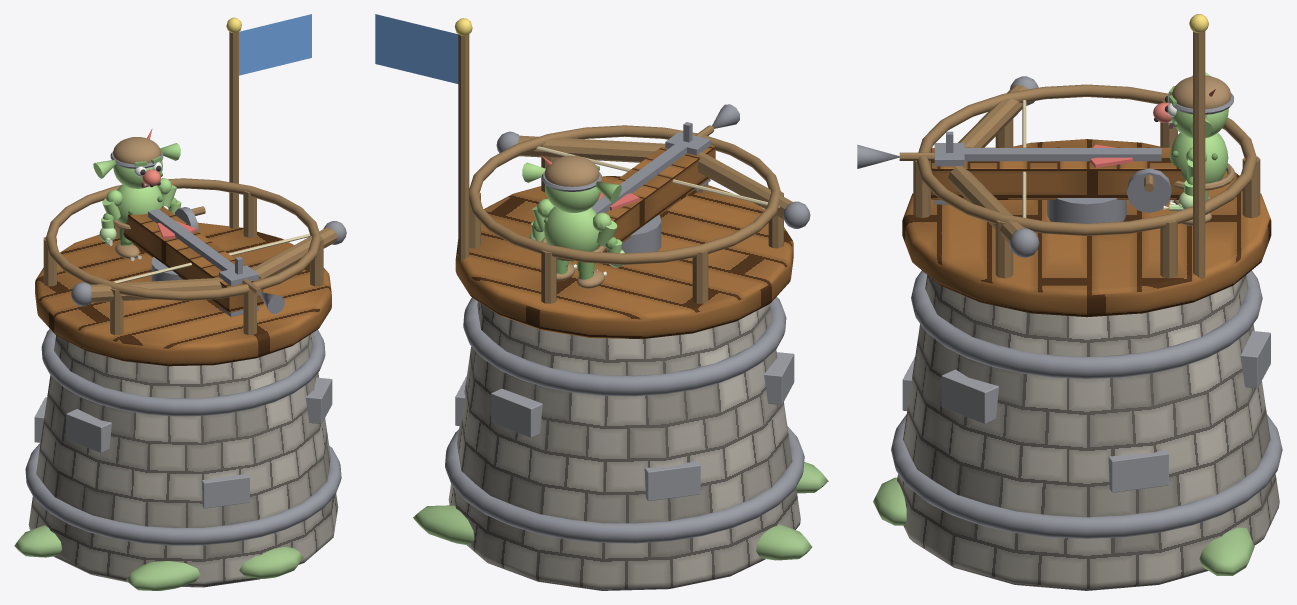
File: tower_crossbow.glb
3 views of the same model, side by side, from view 1: azimuth 30°, elevation 25°; view 2: azimuth 150°, elevation 25°; view 3: azimuth 270°, elevation 25° (orthographic). The views are drawn at different scales.
Parts seen in each view (by area): view 1: Base, Platform, BaseBandLow, BaseBandHigh, Rail, Stock, Flag, Pole, Moss.011, Brick.003, Limb, Moss.009 (+15 smaller); view 2: Base, Platform, BaseBandLow, BaseBandHigh, Rail, Flag, Stock, Pole, Limb.001, Operator_Body, Brick.001, Brick.002 (+13 smaller); view 3: Base, Platform, BaseBandLow, BaseBandHigh, Rail, Stock, Pole, StockRail, Brick.005, Brick, Pivot, Moss.008 (+15 smaller).
Boxes of the visible parts, box(x1,y1,x2,y2) form: Base: box(28, 333, 338, 587); Platform: box(35, 222, 331, 366); BaseBandLow: box(25, 443, 341, 545); BaseBandHigh: box(41, 329, 325, 416); Rail: box(45, 178, 321, 300); Stock: box(123, 206, 263, 313); Flag: box(239, 14, 311, 75); Pole: box(229, 32, 238, 228); Moss.011: box(126, 561, 200, 590); Brick.003: box(66, 409, 111, 452); Limb: box(90, 277, 223, 302); Moss.009: box(239, 547, 303, 578); Base: box(448, 301, 800, 590); Platform: box(455, 176, 793, 339); BaseBandLow: box(445, 426, 804, 543); BaseBandHigh: box(463, 296, 786, 396); Rail: box(469, 125, 781, 264); Flag: box(375, 14, 458, 83); Stock: box(598, 144, 715, 252); Pole: box(458, 34, 469, 261); Limb.001: box(517, 135, 665, 162); Operator_Body: box(544, 207, 599, 261); Brick.001: box(491, 388, 542, 437); Brick.002: box(644, 461, 700, 500); Base: box(897, 275, 1279, 590); Platform: box(902, 139, 1271, 317); BaseBandLow: box(891, 414, 1282, 538); BaseBandHigh: box(911, 270, 1262, 378); Rail: box(916, 84, 1257, 235); Stock: box(931, 147, 1184, 199); Pole: box(1193, 31, 1205, 279); StockRail: box(937, 148, 1161, 161); Brick.005: box(941, 369, 998, 423); Brick: box(1108, 449, 1168, 492); Pivot: box(1047, 198, 1126, 223); Moss.008: box(1199, 527, 1254, 575).
Size of the model in its own units: 1.93 by 2.46 by 1.71.
Materials: 21 (2 with a texture image).
